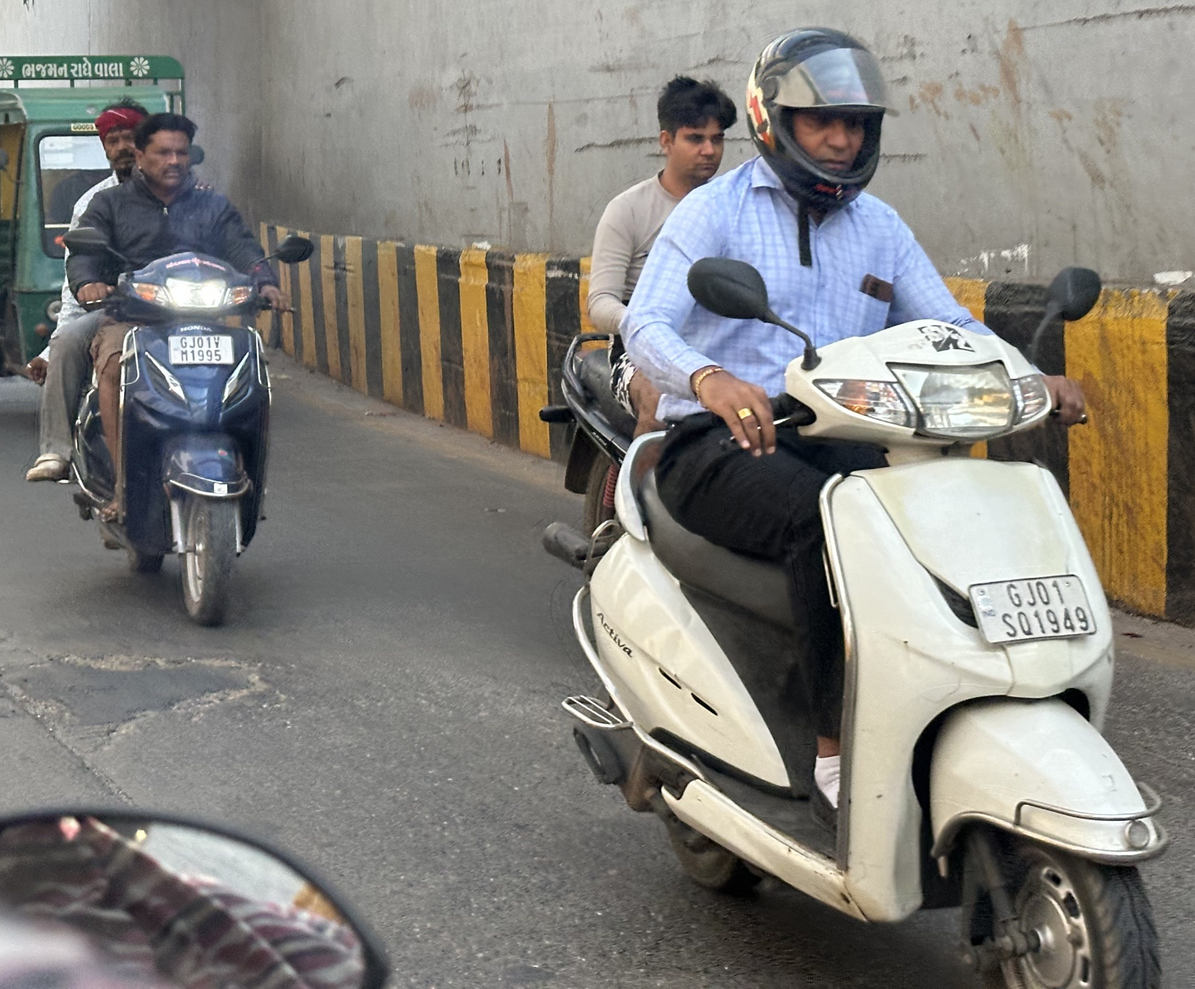BikeWithRider: (530, 21, 1183, 989), (17, 91, 324, 636)
Helmet: (733, 17, 908, 215)
NoHelmet: (642, 67, 746, 194), (126, 107, 207, 201), (88, 96, 155, 186)
